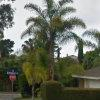Palm tree: (24, 1, 72, 82)
